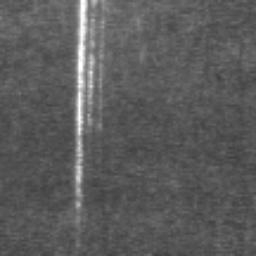Bright scratch: (75, 6, 94, 221)
